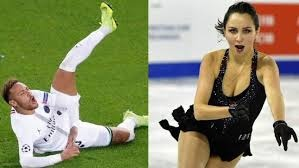falling: (4, 0, 136, 166)
